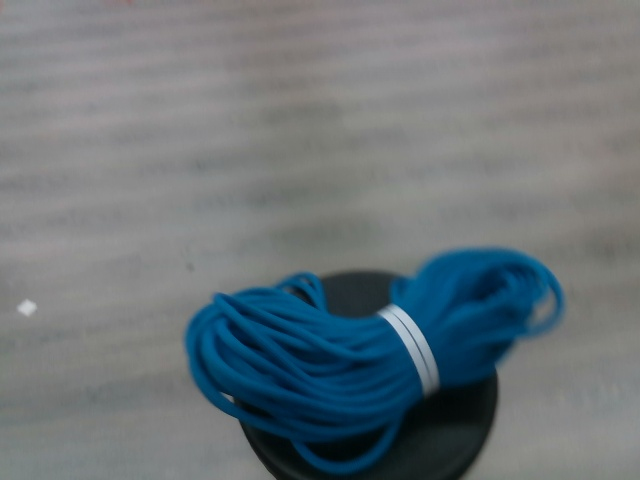rope: (177, 241, 575, 480)
